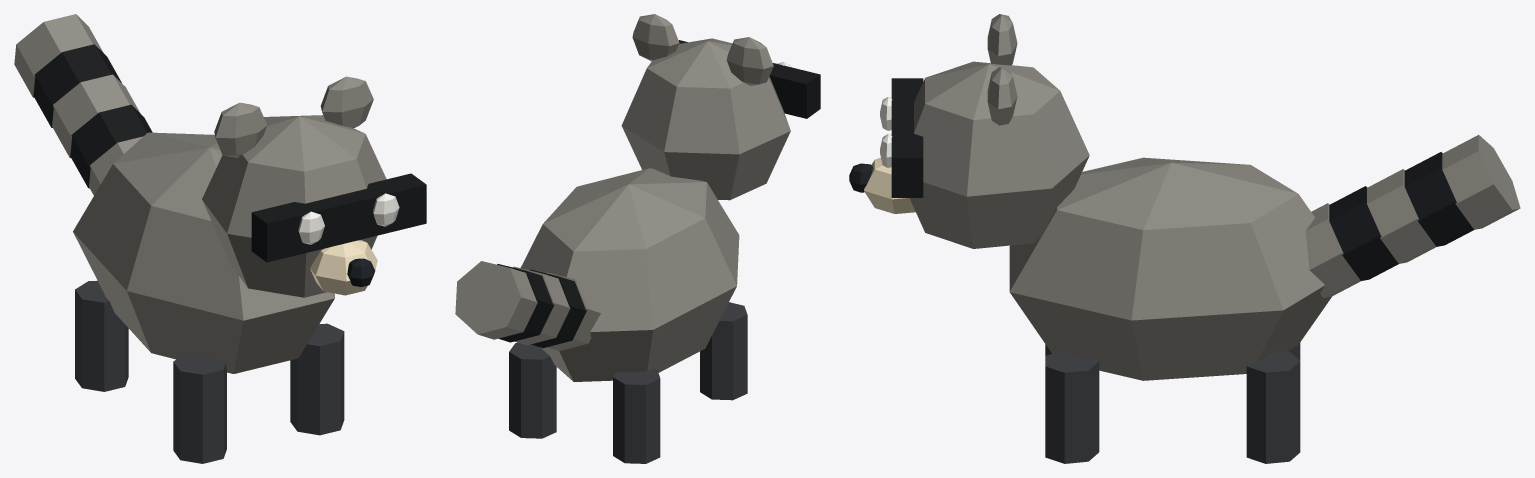
The model's file is raccoon-lod1.glb.
3 renders of one model, left to right at view 1: azimuth 30°, elevation 25°; view 2: azimuth 150°, elevation 25°; view 3: azimuth 270°, elevation 25°, orthographic. The views are drawn at different scales.
Visible parts, largest first — view 1: raccoon; view 2: raccoon; view 3: raccoon.
Boxes of the visible parts, x1,y1,x2,y2 form: raccoon: (14, 14, 426, 463); raccoon: (455, 14, 820, 463); raccoon: (849, 14, 1520, 463).
Size of the model in its own units: 0.3861 by 0.67 by 1.07.
